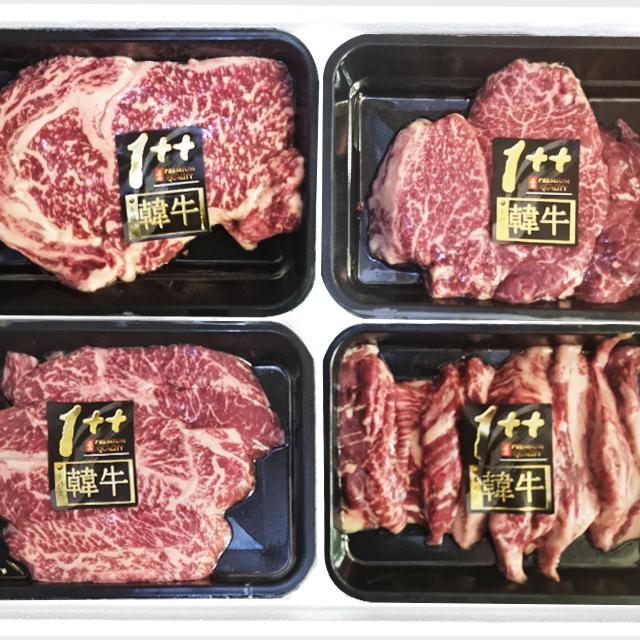beef: (346, 328, 640, 604), (334, 46, 640, 311), (0, 41, 305, 290), (0, 332, 289, 577)
